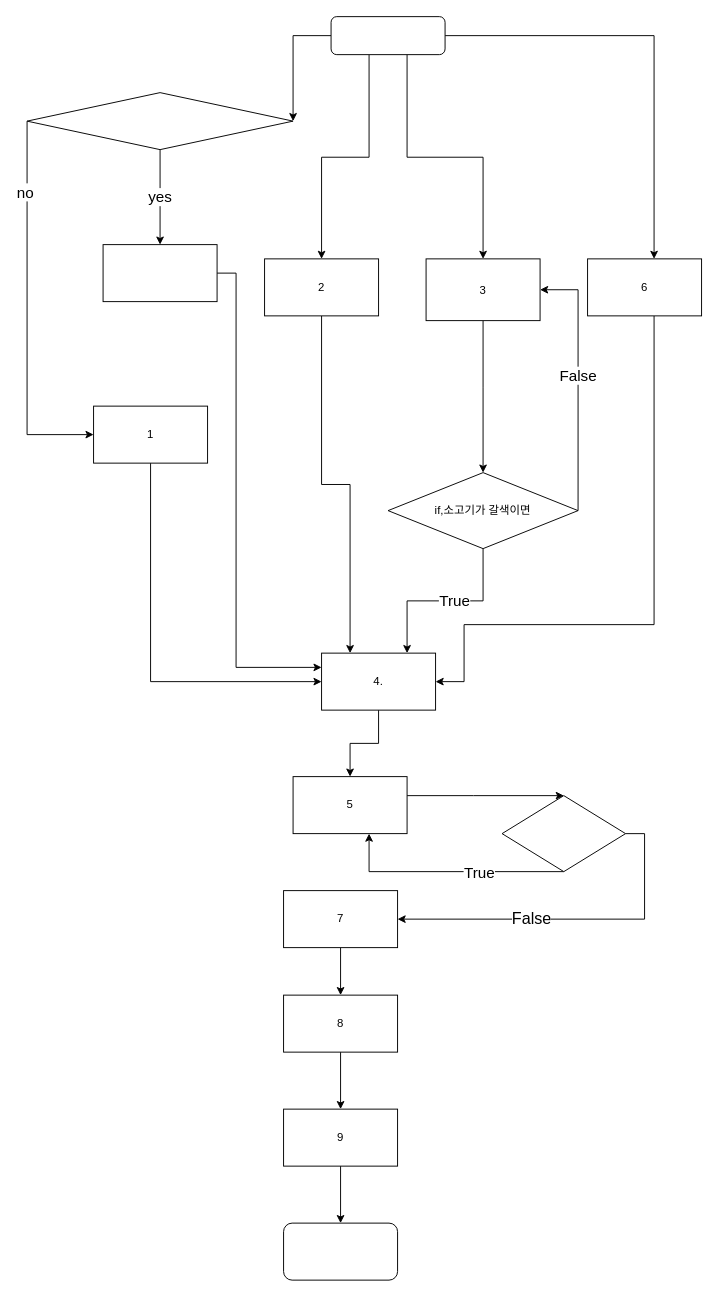
Image size: 718x1297. Some labels were removed from this diagram. Each missing label, with the box of its shape:
30분 물에 넣기: (102, 244, 217, 302)
end: (283, 1222, 398, 1280)
start: (330, 16, 445, 55)
거품존재?: (501, 795, 626, 872)
잘린 가래떡을 샀는가?: (26, 92, 293, 150)
